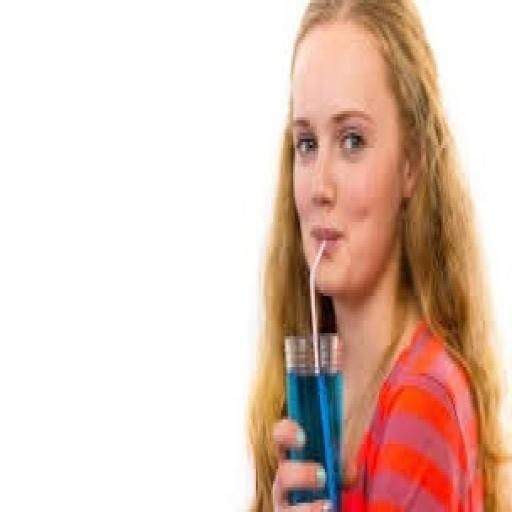drinking: (283, 237, 344, 509)
